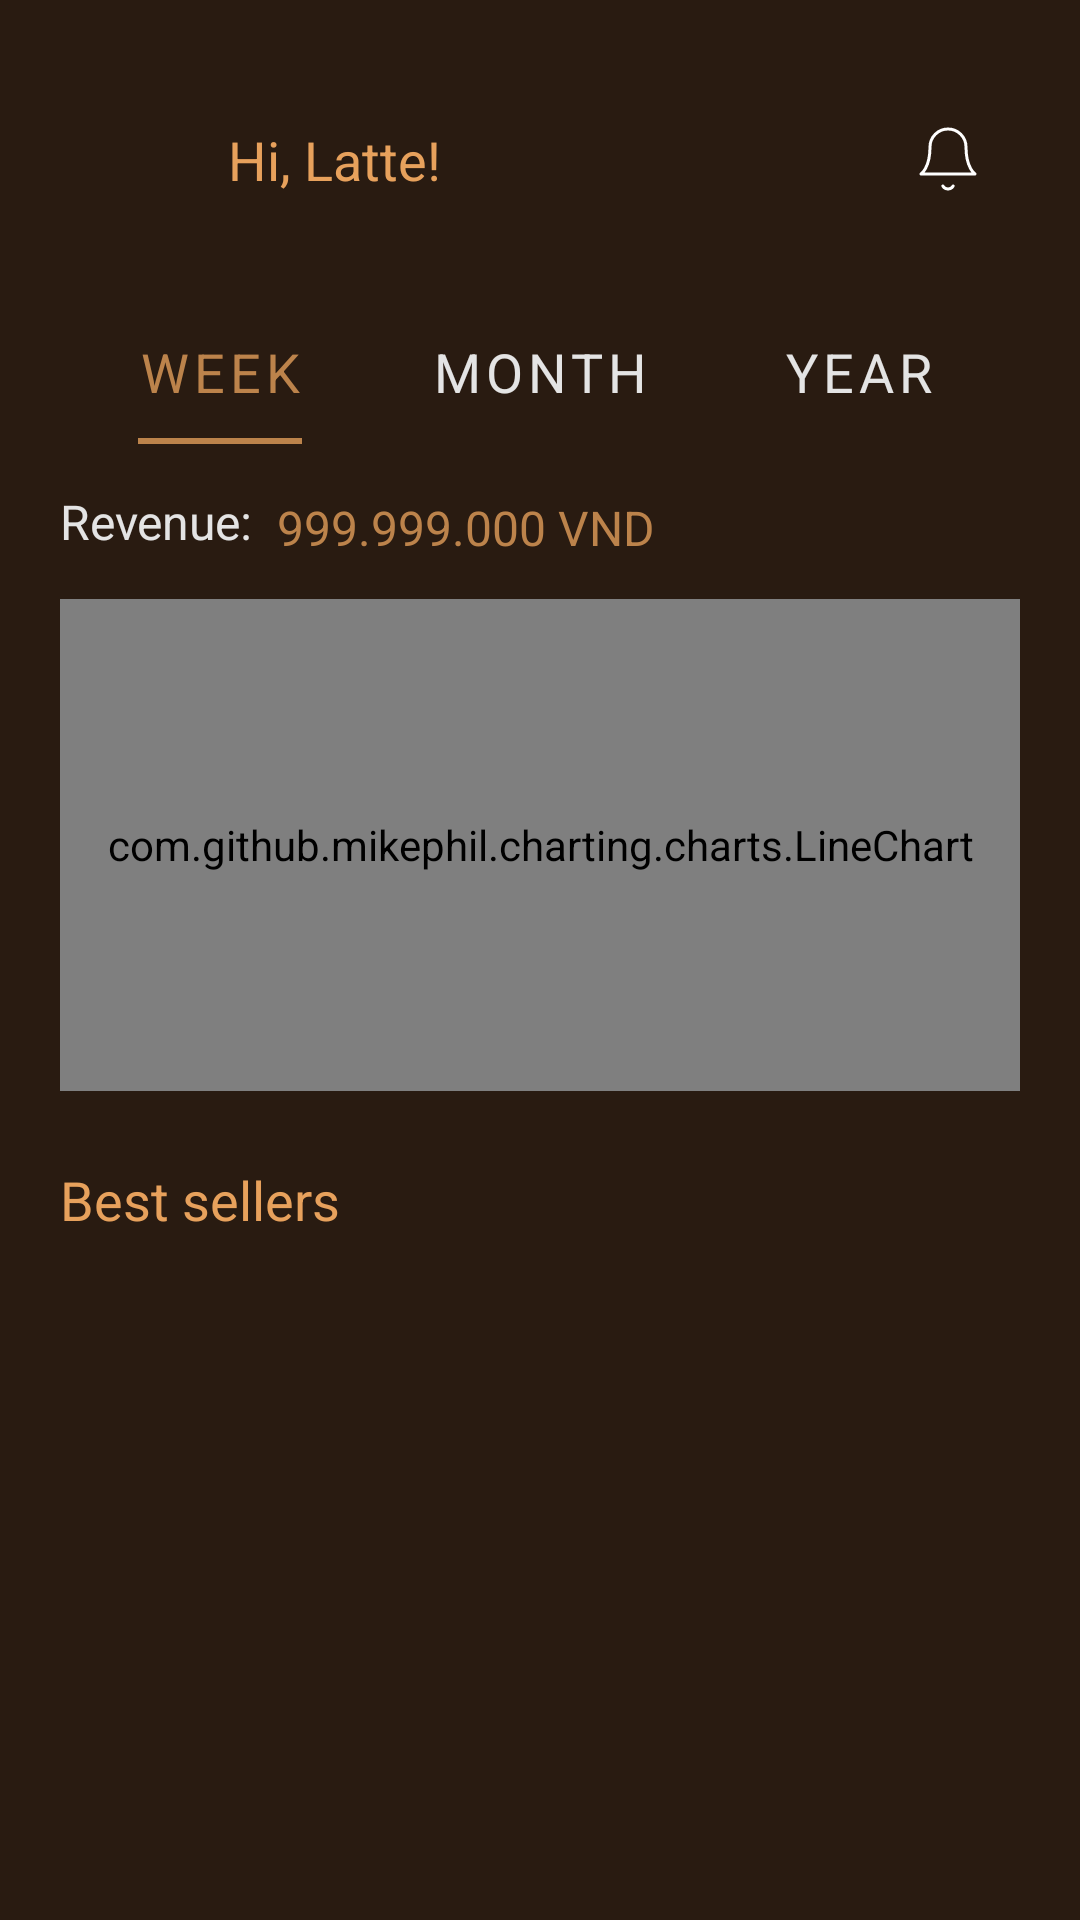

Point at icon controls on the screen. Image size 1080*1920, points as [x,y].
bell: [948,159]
